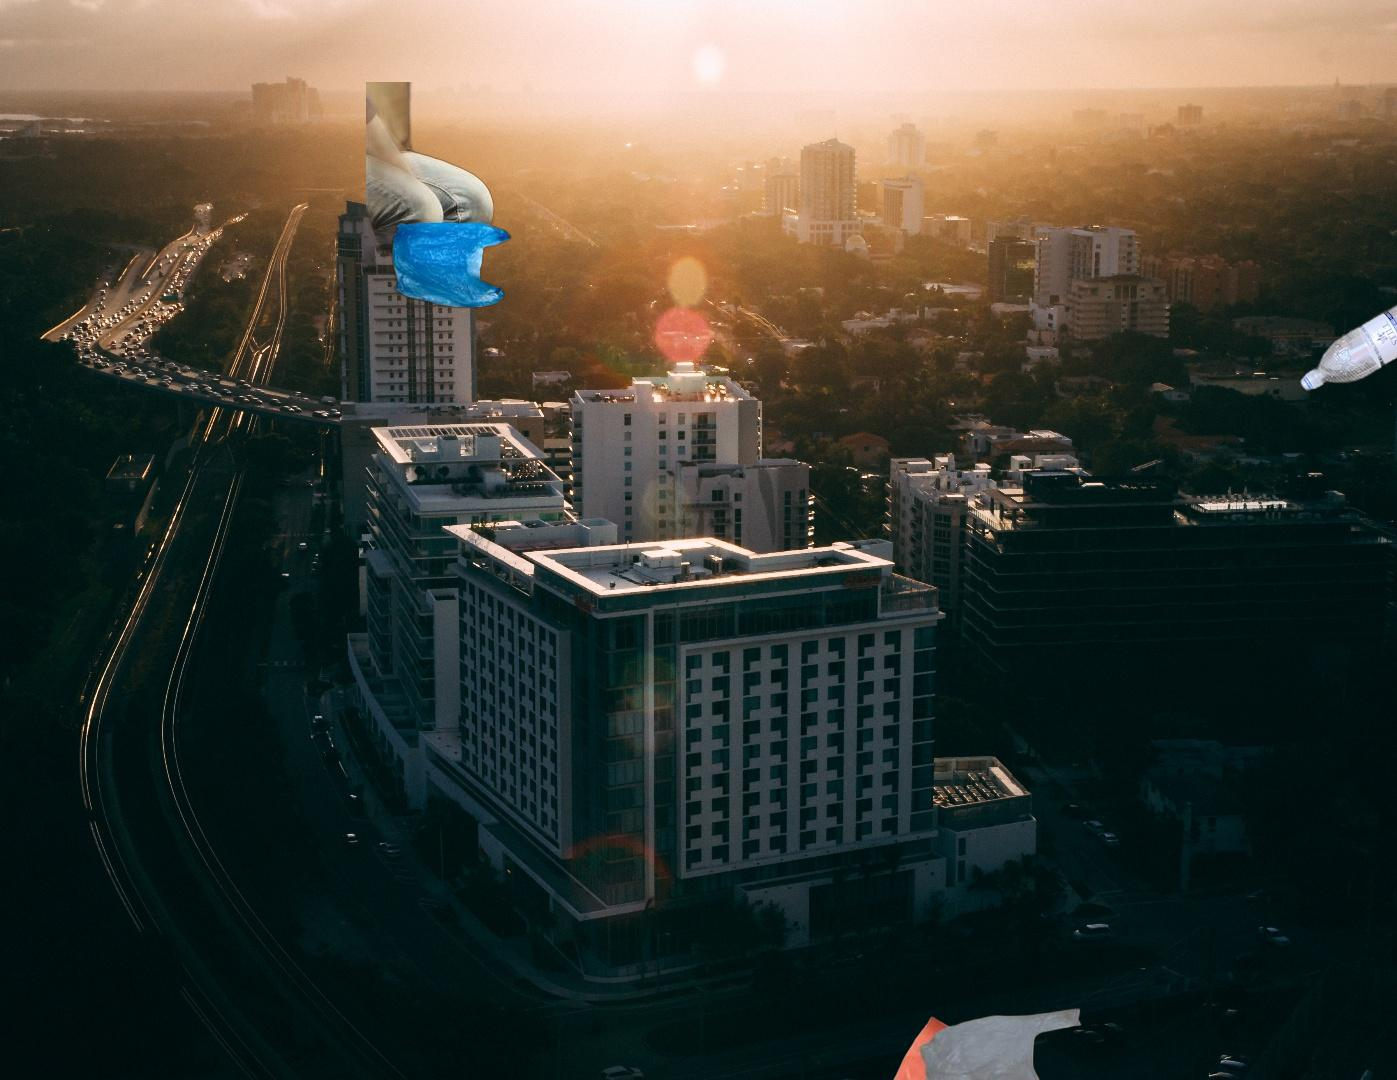plastic-bag: (366, 82, 513, 382), (864, 1005, 1093, 1080)
plastic-bottles: (1296, 297, 1397, 842)
